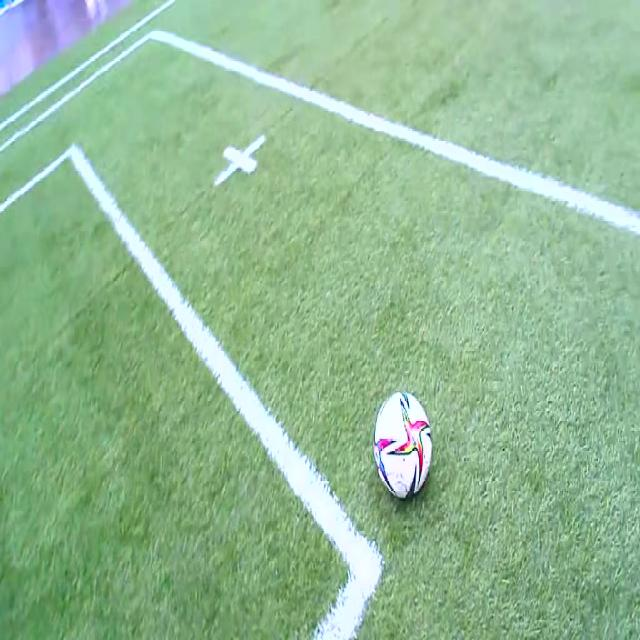ball: (376, 392, 432, 496)
